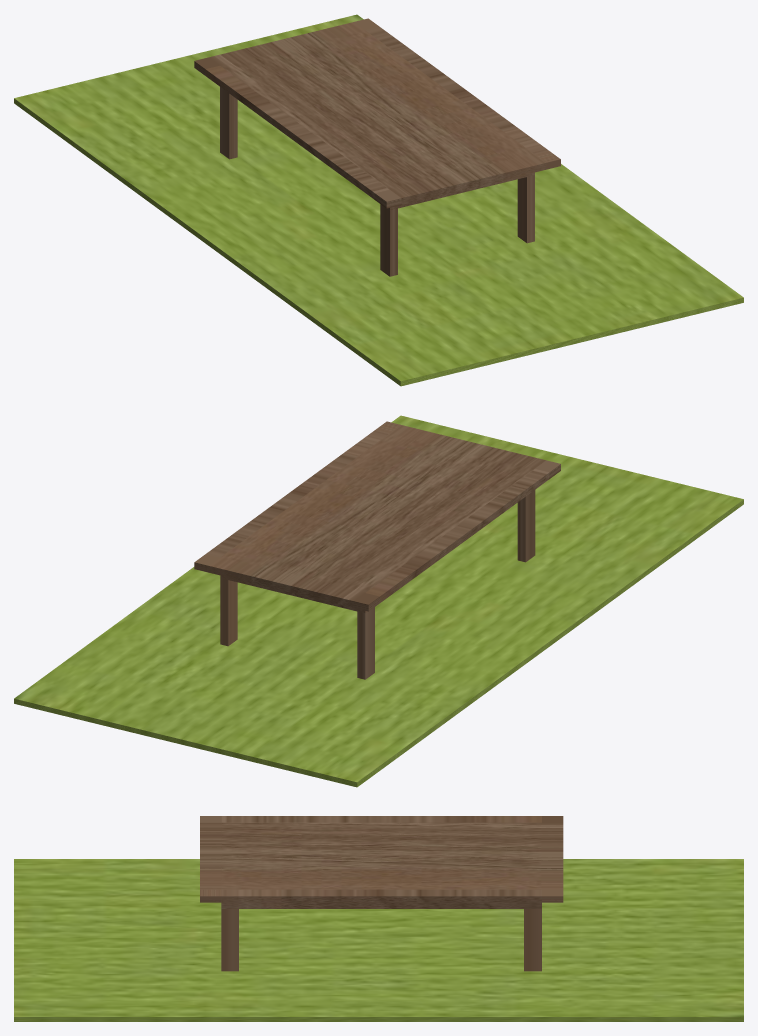
File: mesita.obj
The picture shows the model from 3 angles, top to bottom: view 1: azimuth 30°, elevation 25°; view 2: azimuth 150°, elevation 25°; view 3: azimuth 270°, elevation 25°; orthographic projection. The views are drawn at different scales.
Parts seen in each view (by area): view 1: pCube1, pasted__pCube2 group; view 2: pCube1, pasted__pCube2 group; view 3: pCube1, pasted__pCube2 group.
Part boxes in pixels (x1=…): pCube1: x1=14, y1=14, x2=743, y2=386; pasted__pCube2 group: x1=194, y1=18, x2=560, y2=276; pCube1: x1=14, y1=415, x2=743, y2=787; pasted__pCube2 group: x1=194, y1=421, x2=560, y2=679; pCube1: x1=14, y1=859, x2=743, y2=1021; pasted__pCube2 group: x1=200, y1=816, x2=563, y2=971.
Bounding box in the file's own units: 7 × 1.79 × 13.66.
2 materials, 2 textured.
